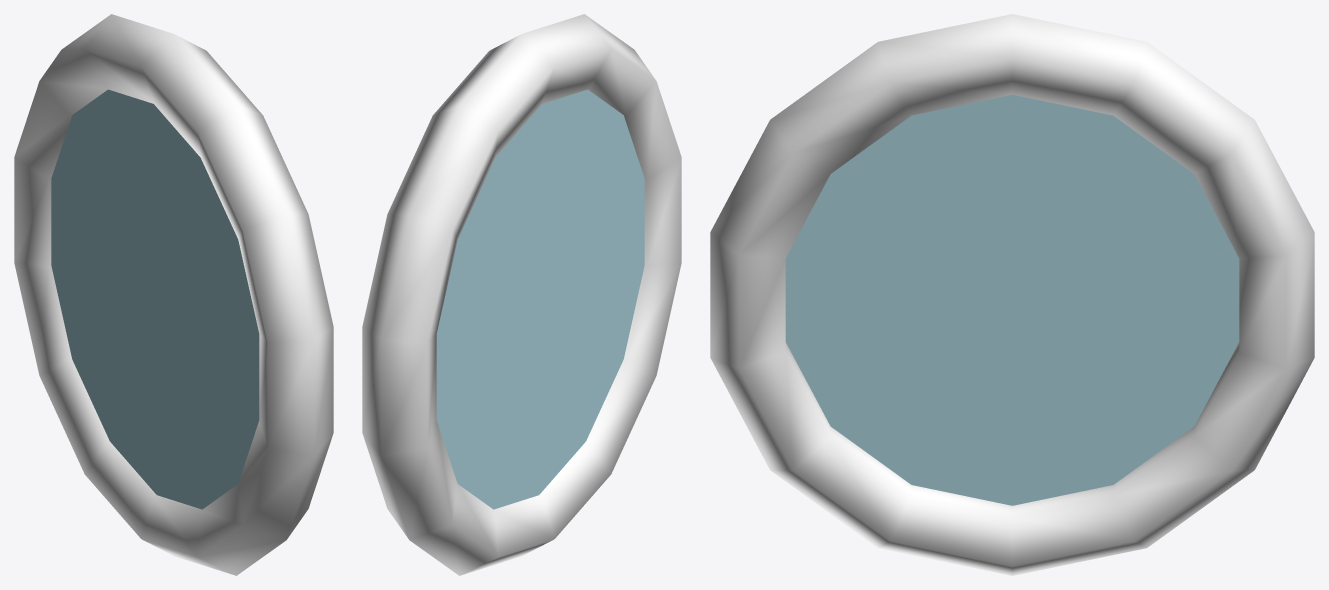
File: Porthole.glb
3 views of the same model, side by side, from view 1: azimuth 30°, elevation 25°; view 2: azimuth 150°, elevation 25°; view 3: azimuth 270°, elevation 25° (orthographic). The views are drawn at different scales.
Visible parts, largest first — view 1: Body, Glow; view 2: Body, Glow; view 3: Glow, Body.
Boxes of the visible parts, bbox=[...] form: Body: bbox=[14, 14, 333, 575]; Glow: bbox=[51, 89, 259, 509]; Body: bbox=[362, 14, 681, 575]; Glow: bbox=[436, 89, 644, 509]; Glow: bbox=[785, 94, 1239, 505]; Body: bbox=[710, 14, 1314, 575].
Bounding box in the file's own units: 0.3804 × 2.9 × 2.83.
